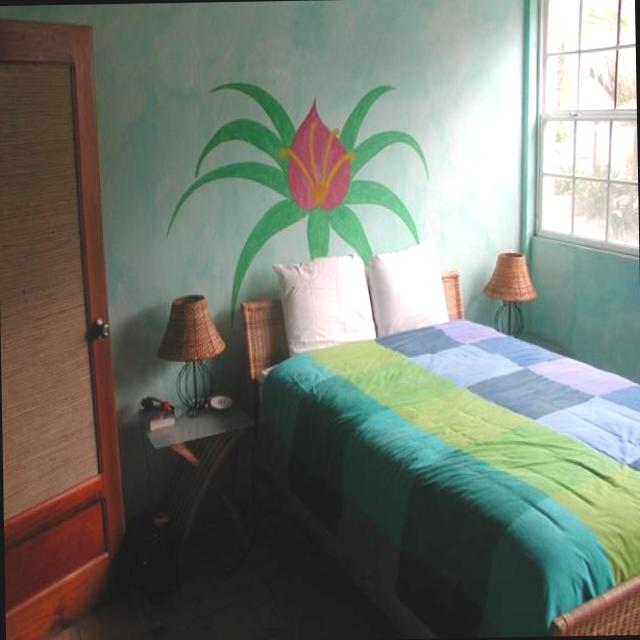bed: (240, 266, 640, 640)
door: (0, 3, 127, 640)
lamps: (154, 292, 227, 418), (481, 250, 537, 338)
pillows: (270, 251, 376, 356), (366, 236, 448, 337)
plants: (162, 74, 432, 324)
table: (140, 395, 258, 575)
window: (527, 0, 639, 260)
